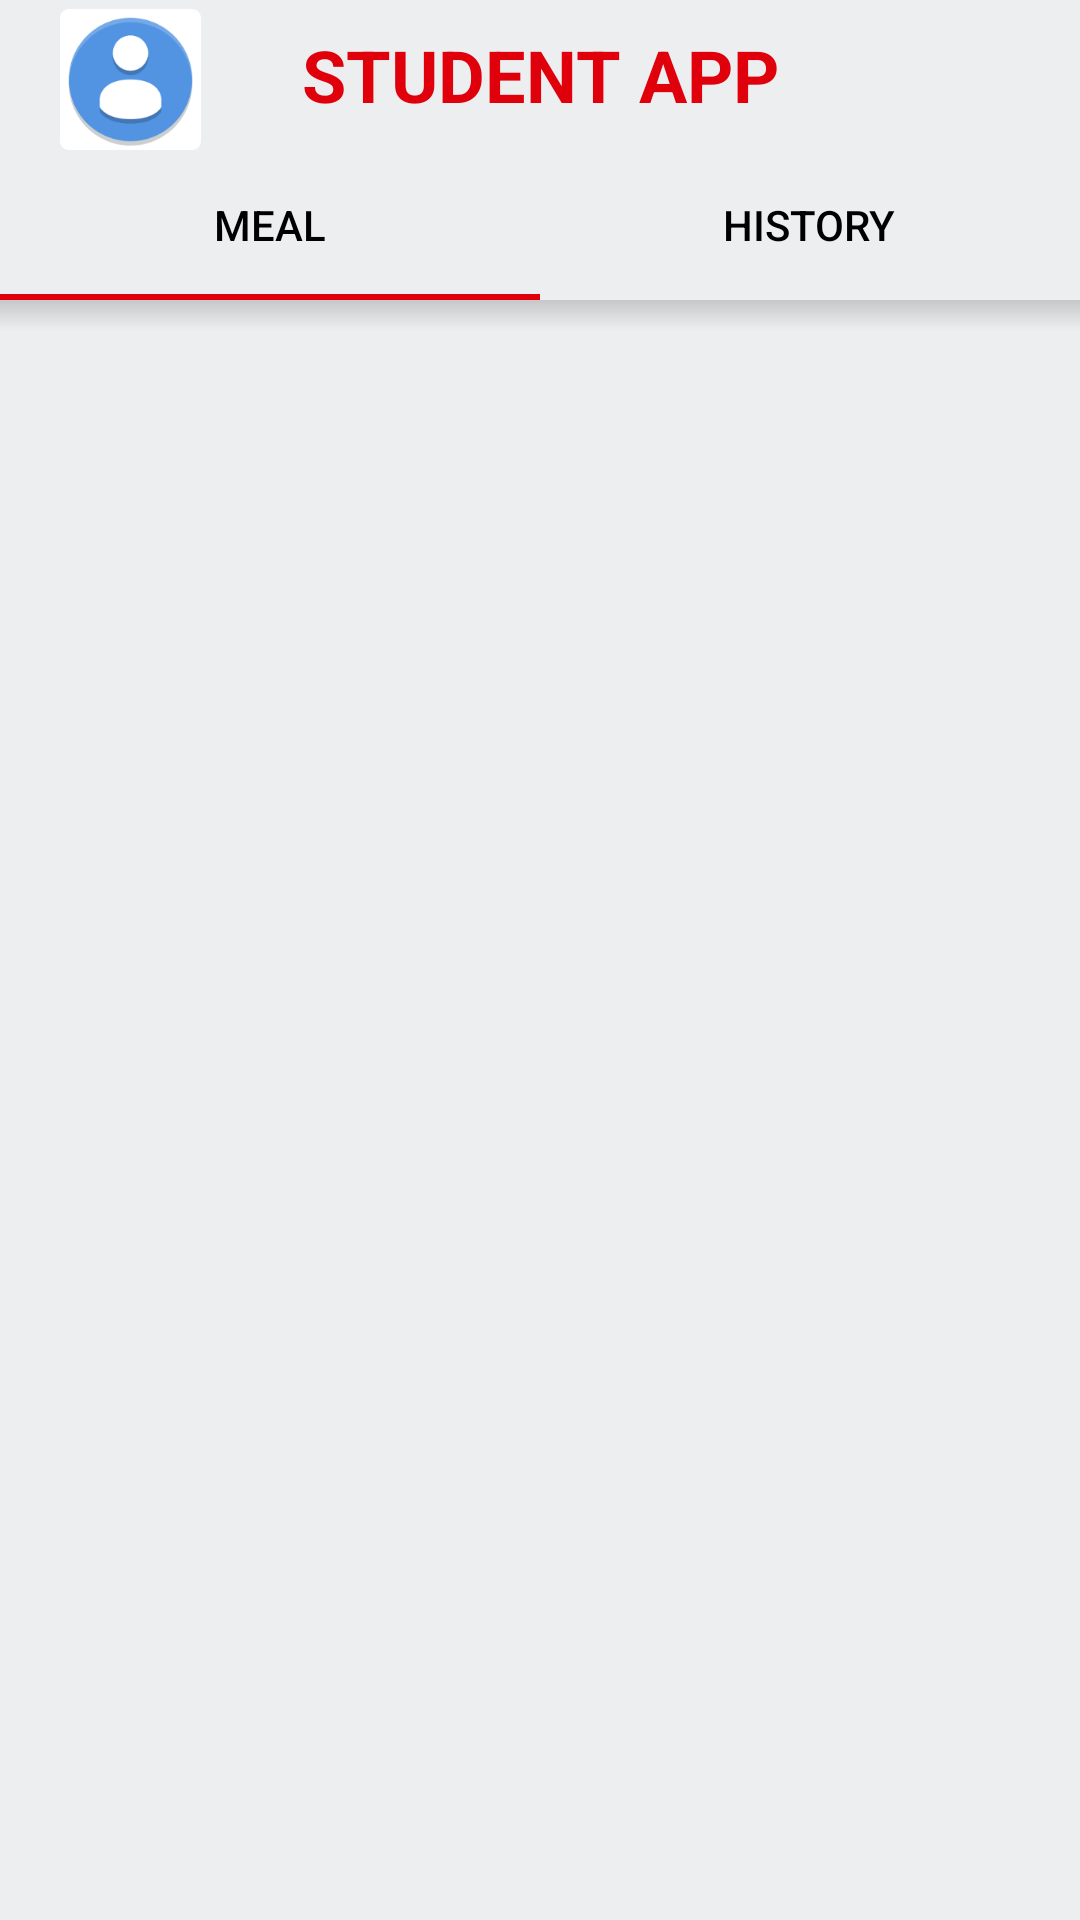

Named icons in this screenshot (1080x1920) and their bounding boxes, rect(x1, y1, x2, y2):
profile: rect(69, 18, 193, 145)
